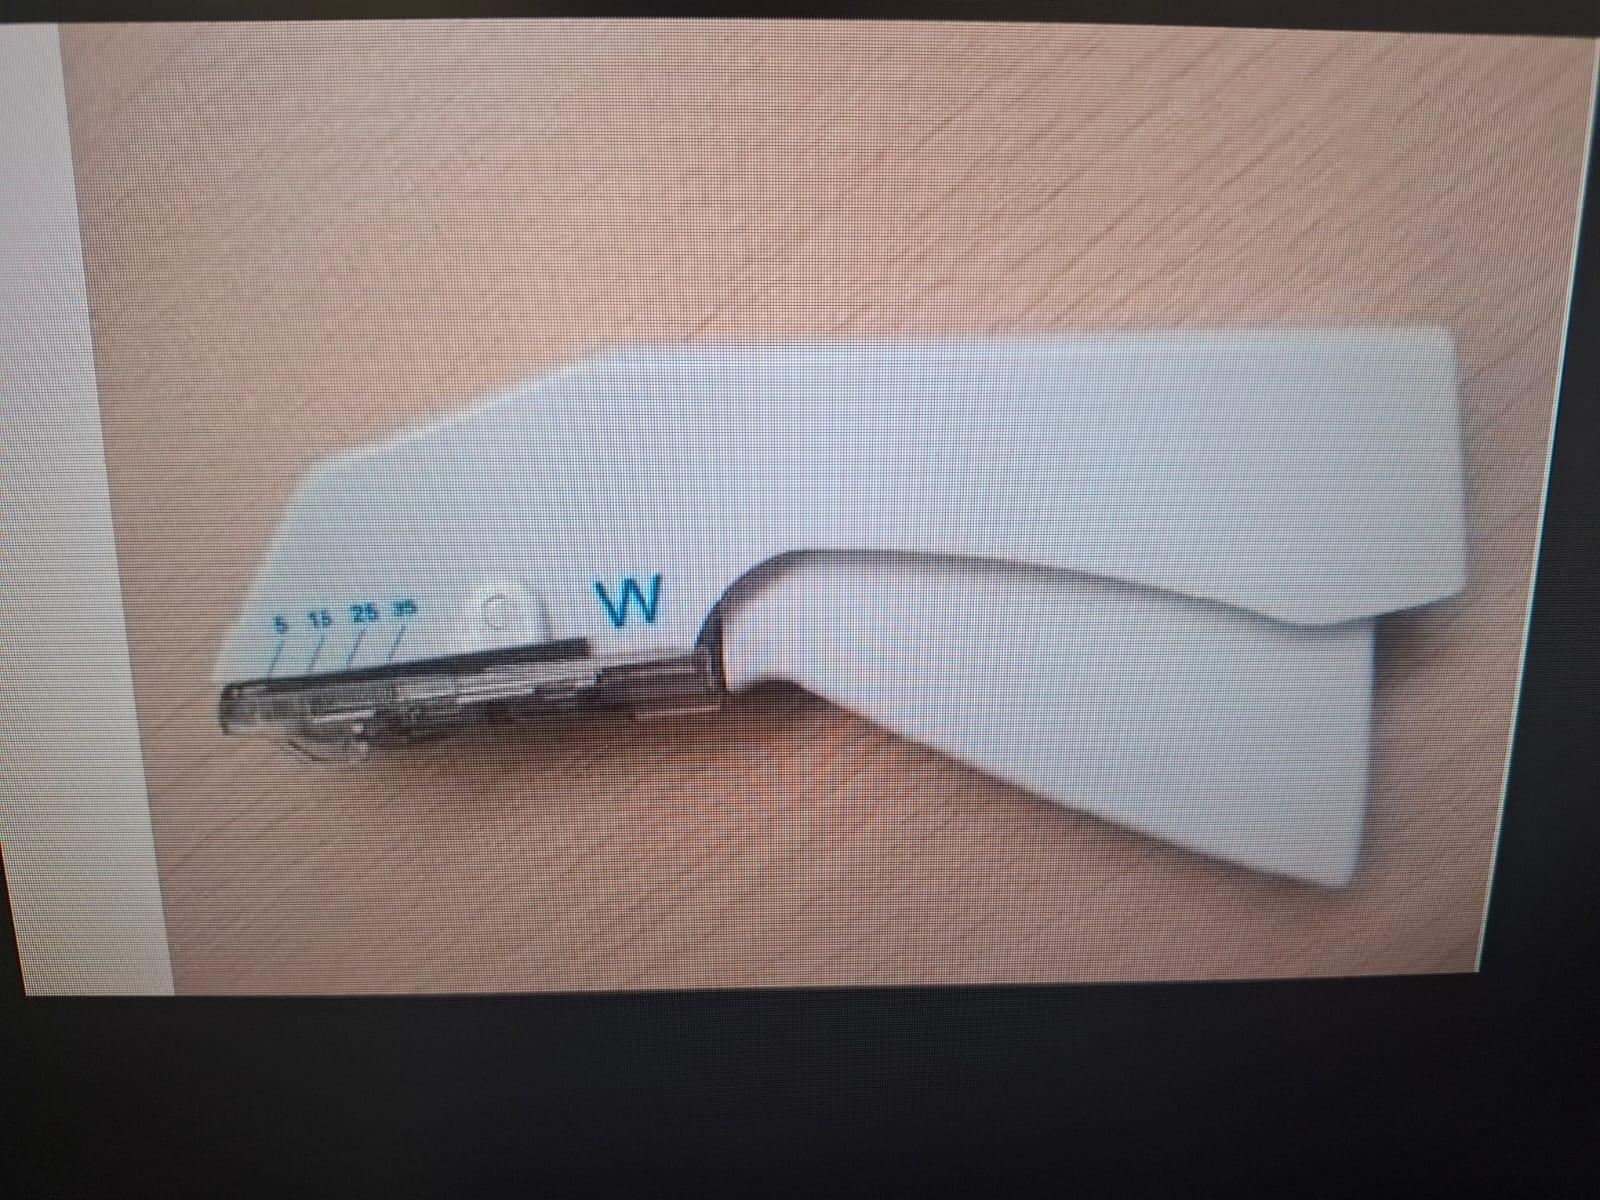Skin Stapler: (188, 300, 1486, 906)
